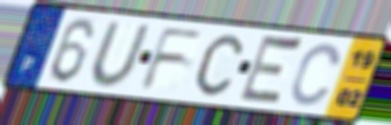6: (48, 14, 97, 87)
C: (288, 41, 343, 109), (193, 32, 245, 98)
E: (235, 31, 307, 110)
F: (137, 26, 208, 92)
U: (89, 20, 153, 90)
